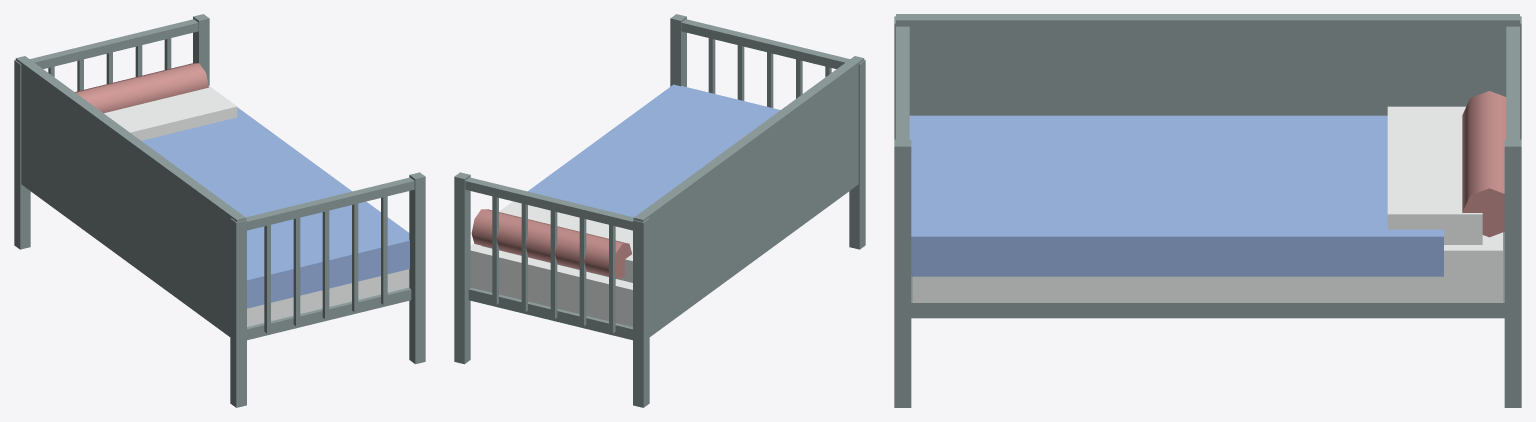
Rendered from daybedIron.glb.
3 views of the same model, side by side, from view 1: azimuth 30°, elevation 25°; view 2: azimuth 150°, elevation 25°; view 3: azimuth 270°, elevation 25° (orthographic). The views are drawn at different scales.
Parts seen in each view (by area): view 1: daybedIron; view 2: daybedIron; view 3: daybedIron.
Part boxes in pixels (<box>): daybedIron: <box>14,14,425,407</box>; daybedIron: <box>454,14,865,407</box>; daybedIron: <box>894,14,1521,407</box>.
Bounding box in the file's own units: 0.455 × 0.43 × 0.925.
